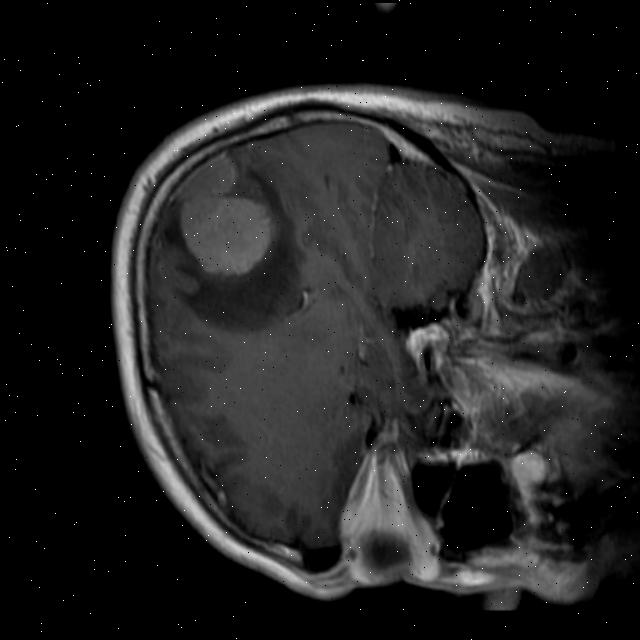Meningioma: (172, 184, 281, 285)
